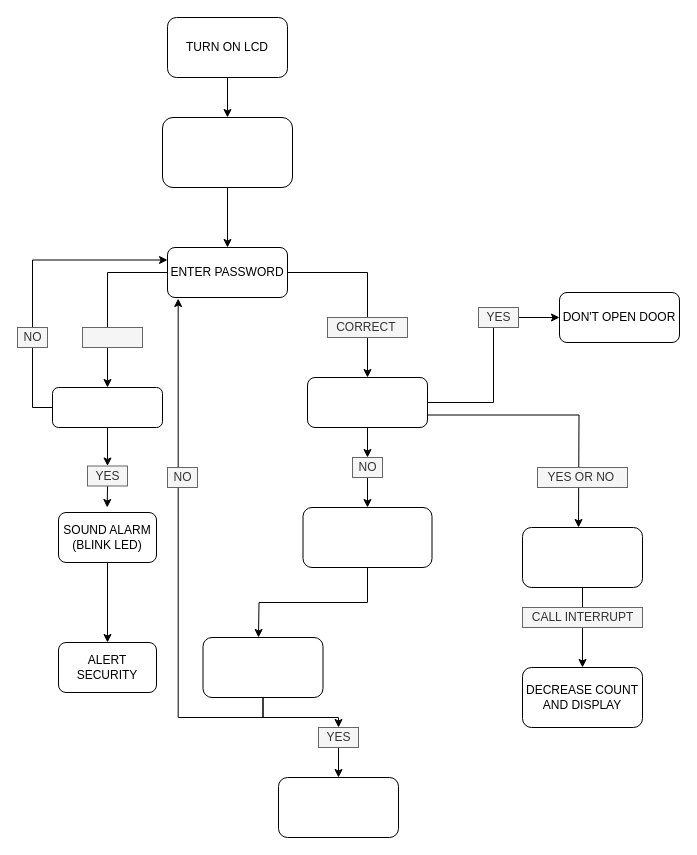
Image size: 697x855. Some labels were removed from this diagram. Each missing label, with the box of its shape:
3 ATTEMPTS COMPLETED?: (52, 386, 162, 428)
DISPLAY WELCOME MESSAGE ON LCD: (162, 116, 292, 188)
INCREMENT COUNT AND DISPLAY: (278, 776, 398, 838)
OPEN DOOR USING MOTOR (5s): (302, 506, 432, 568)
PEOPLE INSIDE=10?: (306, 376, 428, 428)
PERSON ENTERS AND PRESSES PUSH BUTTON?: (202, 636, 323, 698)
PERSON INSIDE PUSHES BUTTON TO LEAVE: (522, 526, 642, 588)
WRONG: (82, 326, 142, 348)
